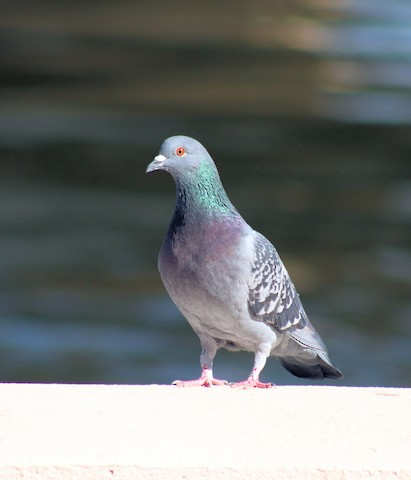pigeon: (138, 128, 353, 399)
